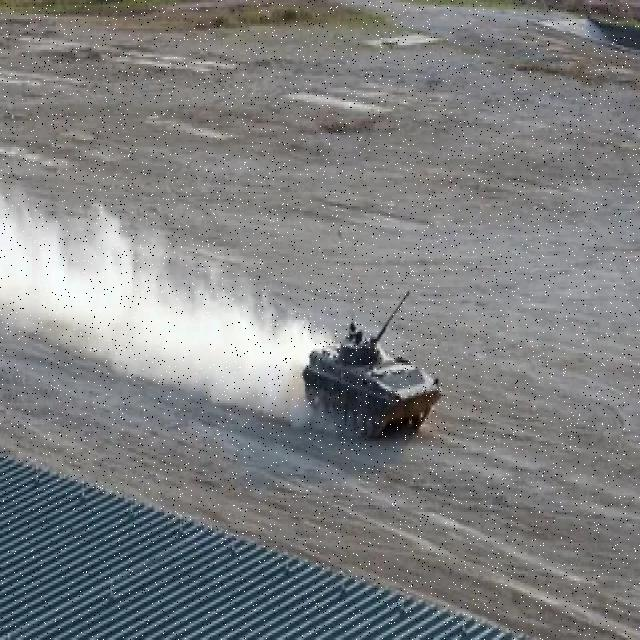MIL_MBT: (301, 288, 441, 440)
